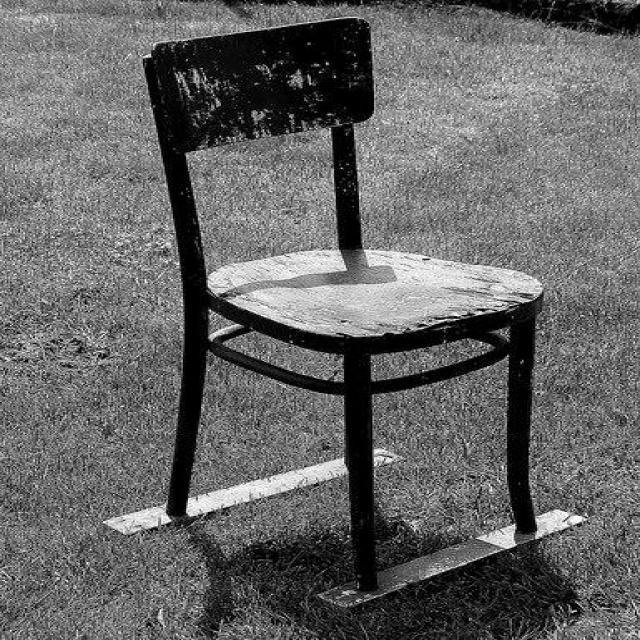chair: (100, 16, 590, 618)
